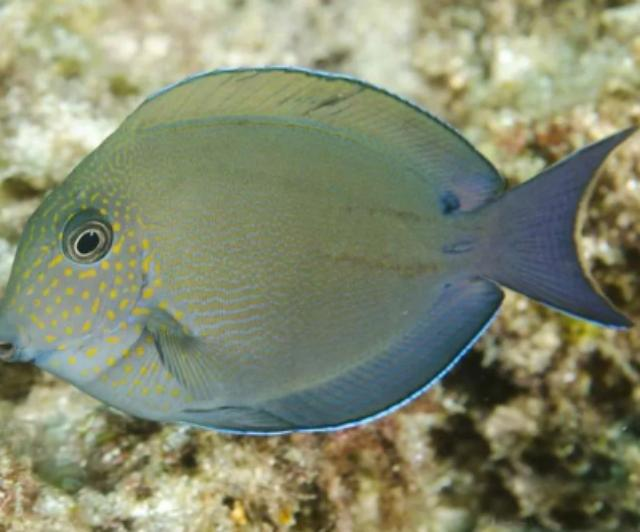Mulut: (1, 306, 62, 412)
Sirip Anal: (268, 265, 508, 449)
Sirip Dada: (127, 291, 255, 417)
Sirip Ekor: (486, 112, 640, 342)
Sirip Perut: (165, 394, 302, 454)
Sirip Punggung: (119, 53, 509, 212)
